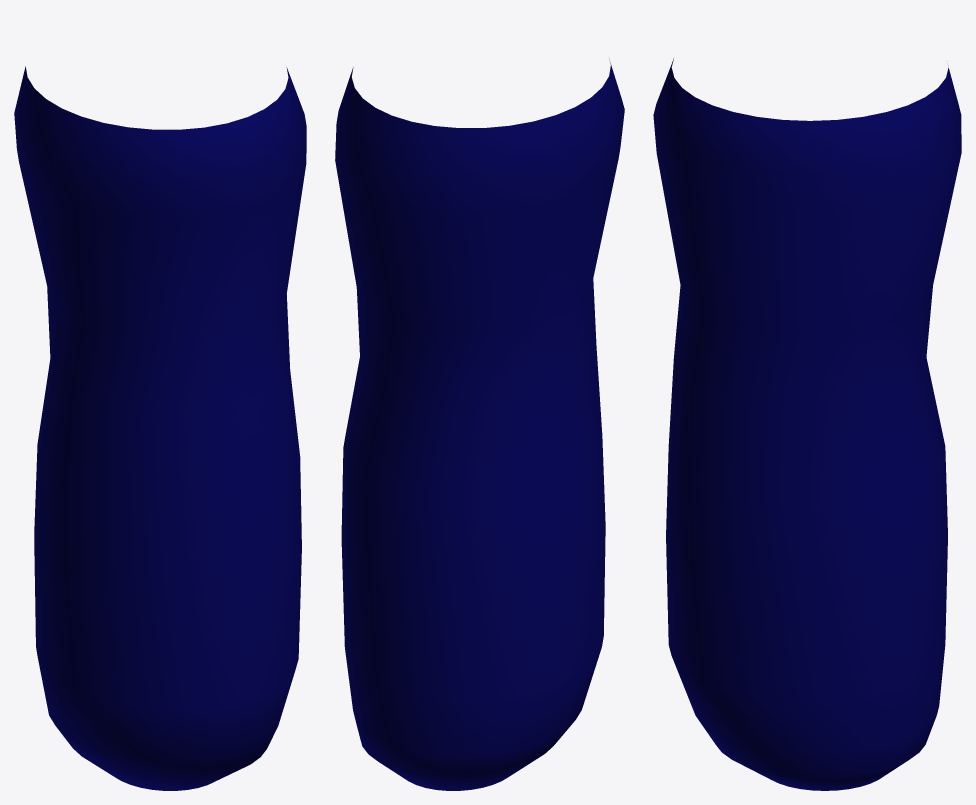
Rendered from lhand.gltf.
The picture shows the model from 3 angles, left to right: view 1: azimuth 30°, elevation 25°; view 2: azimuth 150°, elevation 25°; view 3: azimuth 270°, elevation 25°; orthographic projection.
Visible parts, largest first — view 1: lengan.008; view 2: lengan.008; view 3: lengan.008.
Boxes of the visible parts, bbox=[...] form: lengan.008: bbox=[14, 66, 306, 790]; lengan.008: bbox=[335, 59, 624, 790]; lengan.008: bbox=[653, 58, 961, 790].
Size of the model in its own units: 0.082 by 0.2258 by 0.0896.
1 material, 1 textured.
